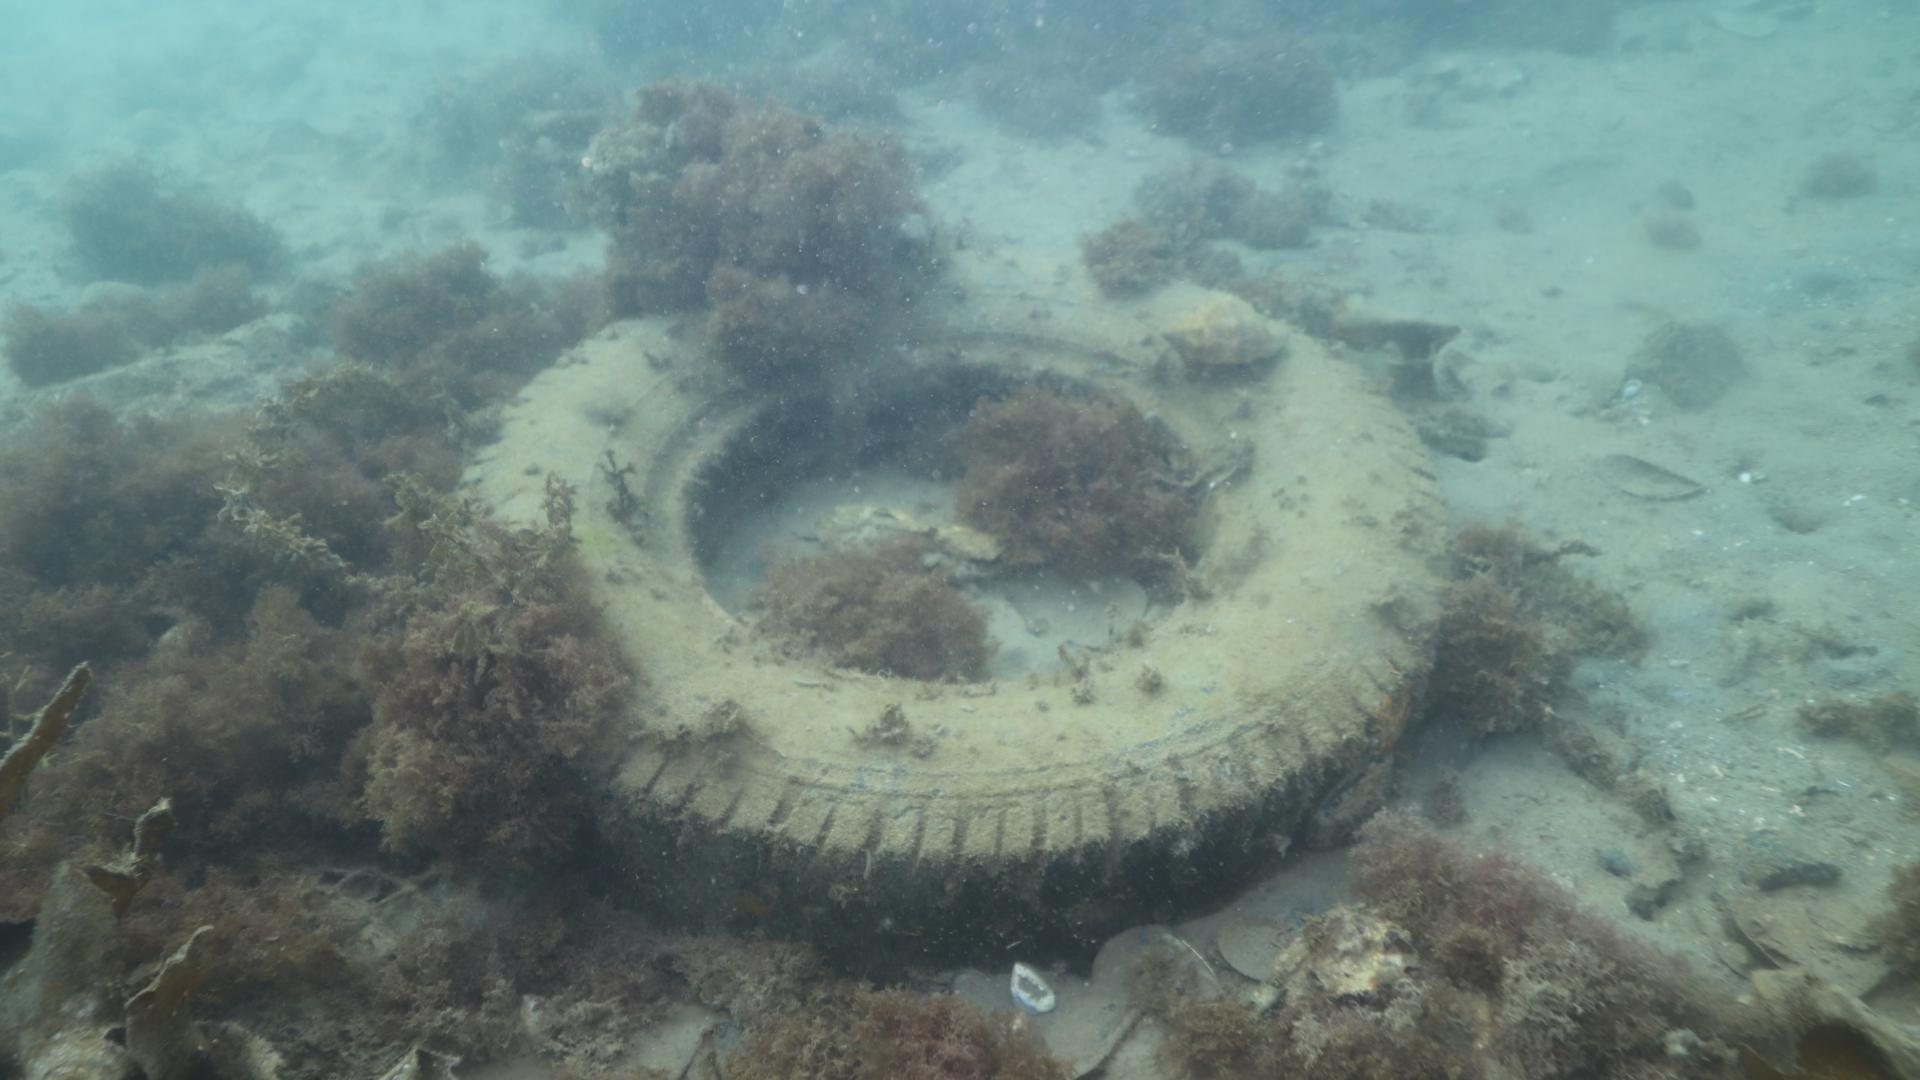tire: (448, 251, 1453, 972)
